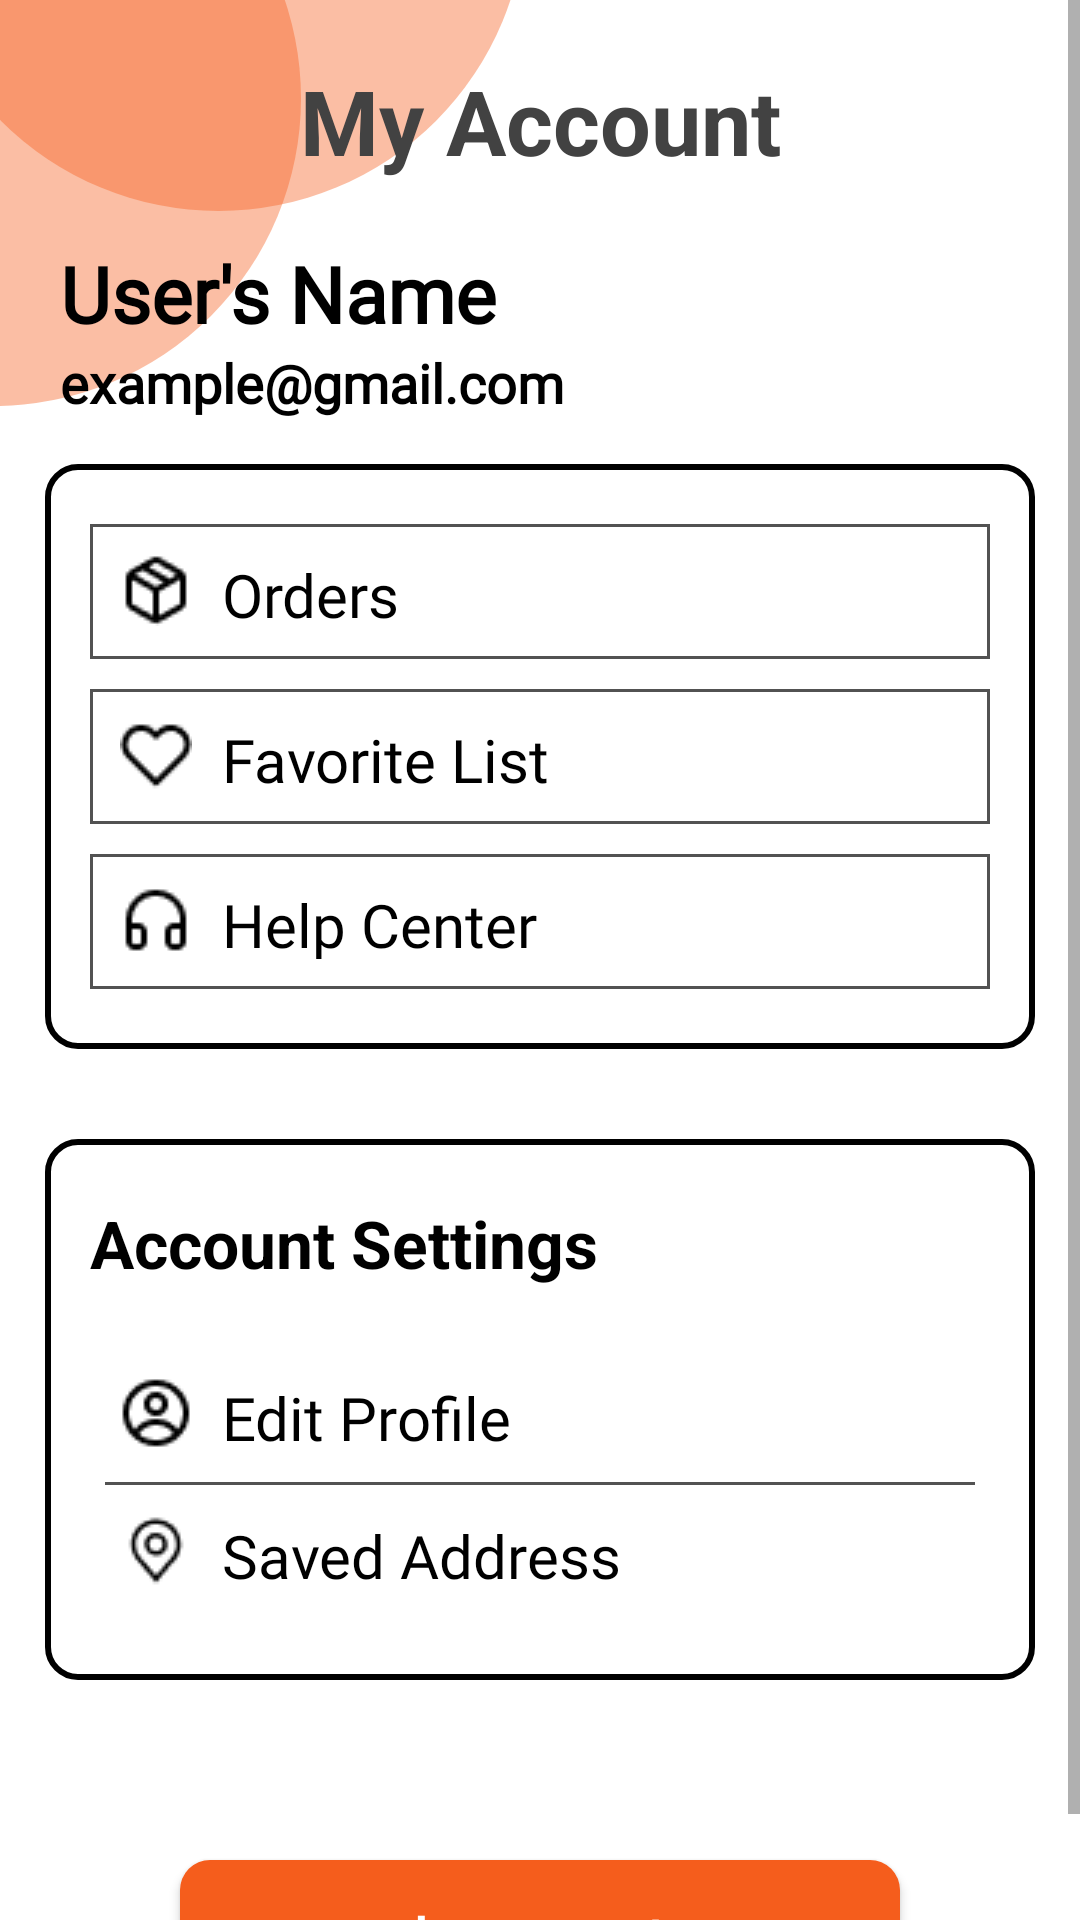

Point at icon controls on the screen. Image size 1080 x 1920, points as (x,y).
heart: (156,755)
location: (156,1550)
